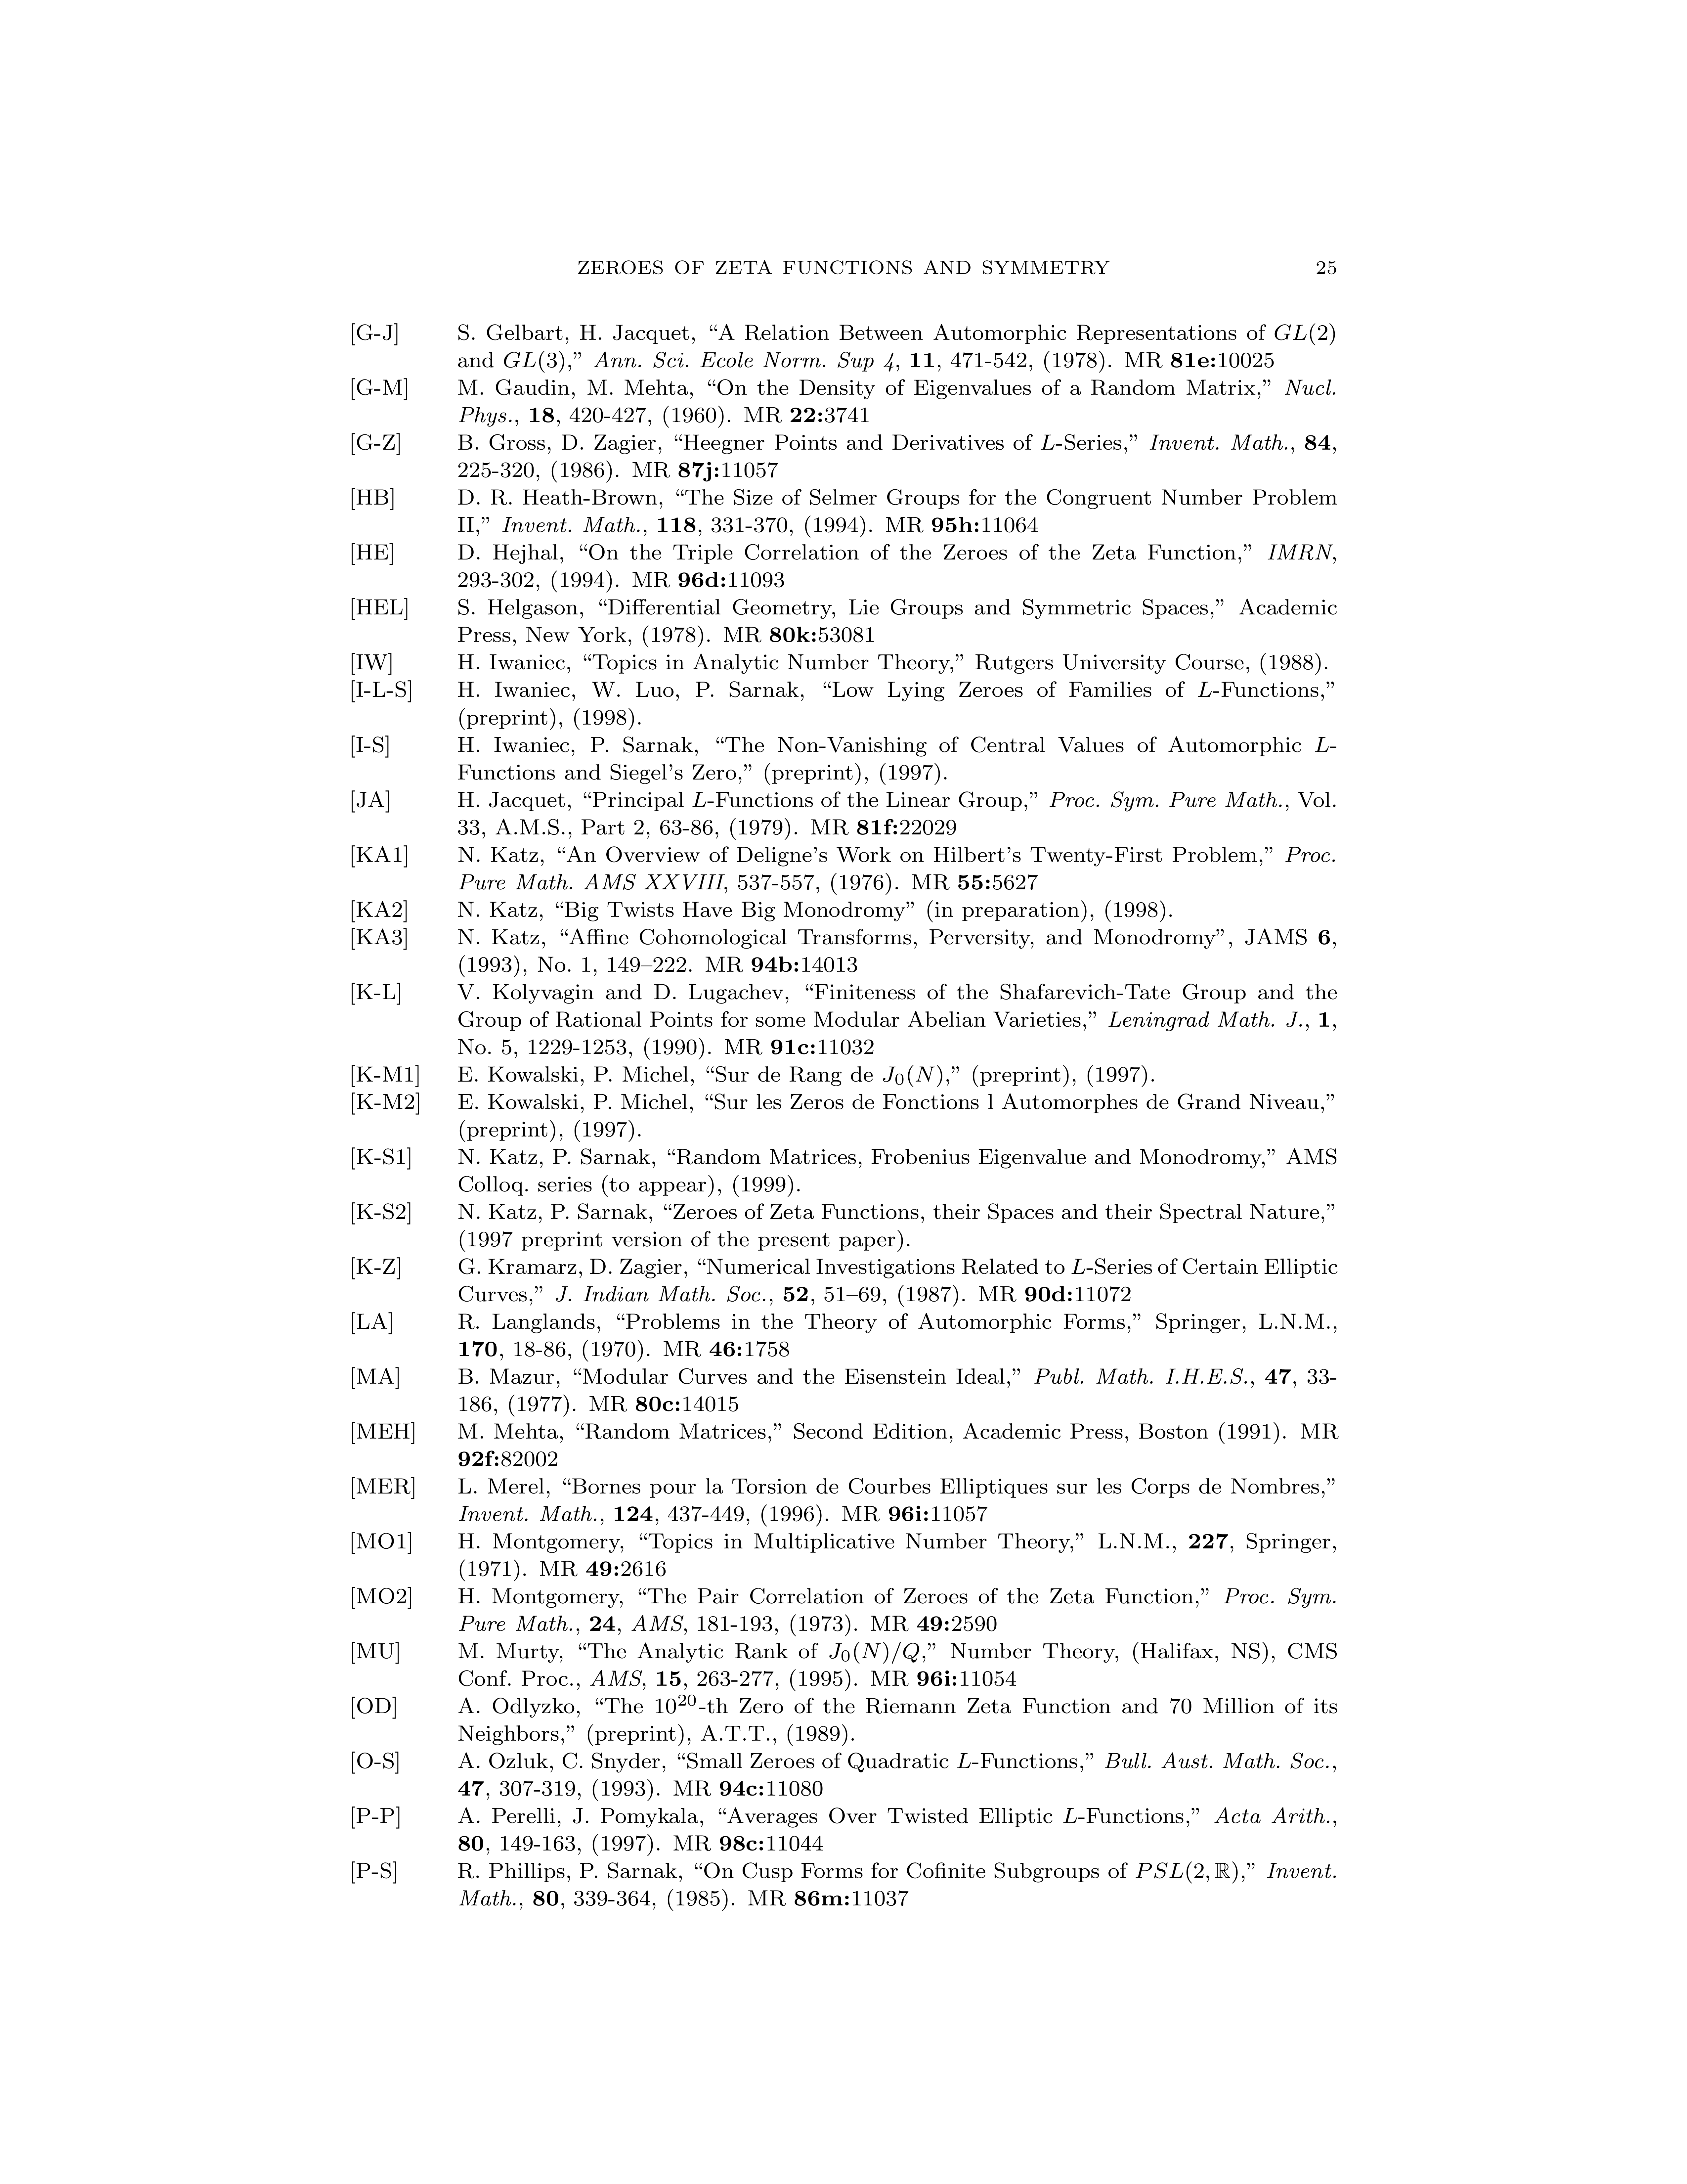maths: (1136, 1861, 1244, 1883), (829, 1642, 925, 1663), (503, 351, 571, 372), (882, 1065, 948, 1087), (1274, 323, 1334, 346), (656, 1695, 695, 1712), (1198, 682, 1212, 697), (1315, 737, 1329, 752), (957, 1753, 971, 1767), (1063, 1808, 1077, 1822), (693, 792, 705, 807)
